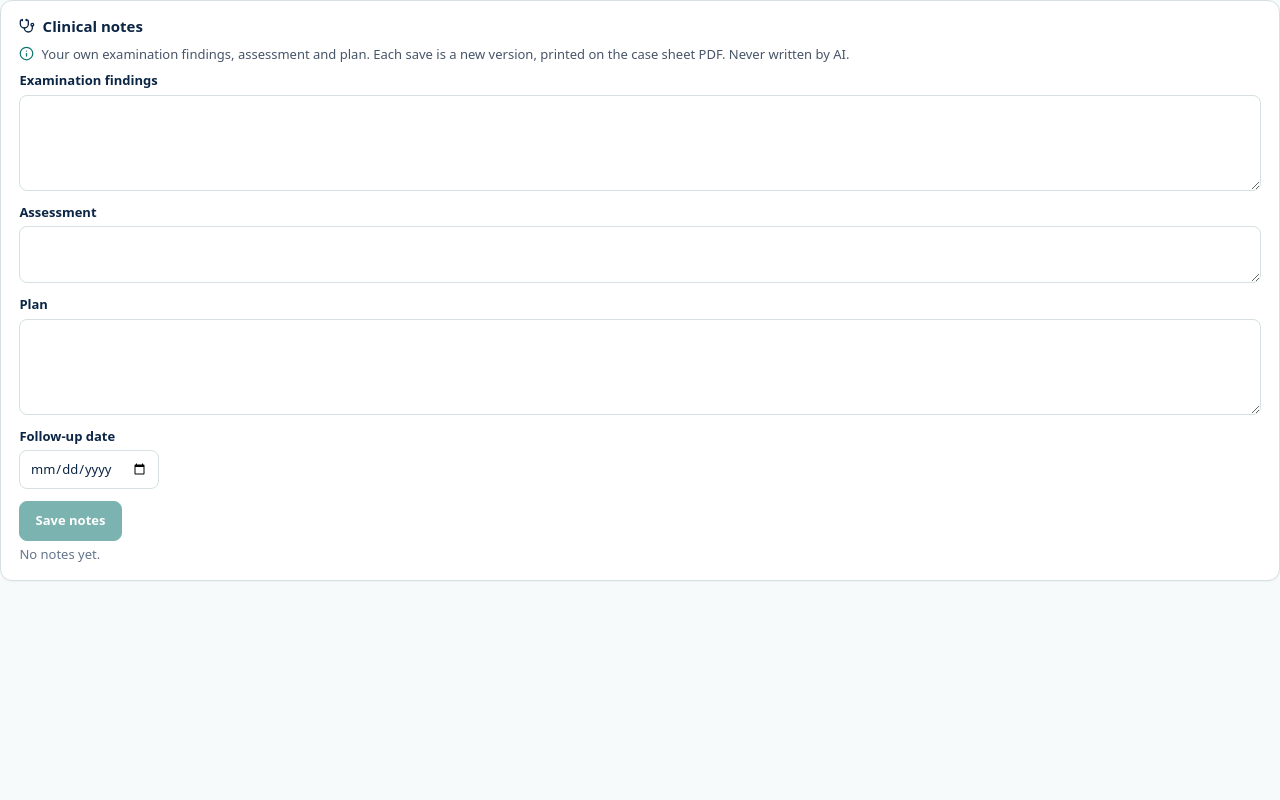
Test: Doctor's notes panel › saves the first version with the version the doctor started from
This screenshot has width=1280, height=800.
Expected: the button "Save notes" is disabled, x1=19 y1=501 x2=122 y2=541
Type "  Fluids " into the text box labelled "Plan".
click(640, 367); type("  Fluids ")  # box x1=19 y1=319 x2=1261 y2=415
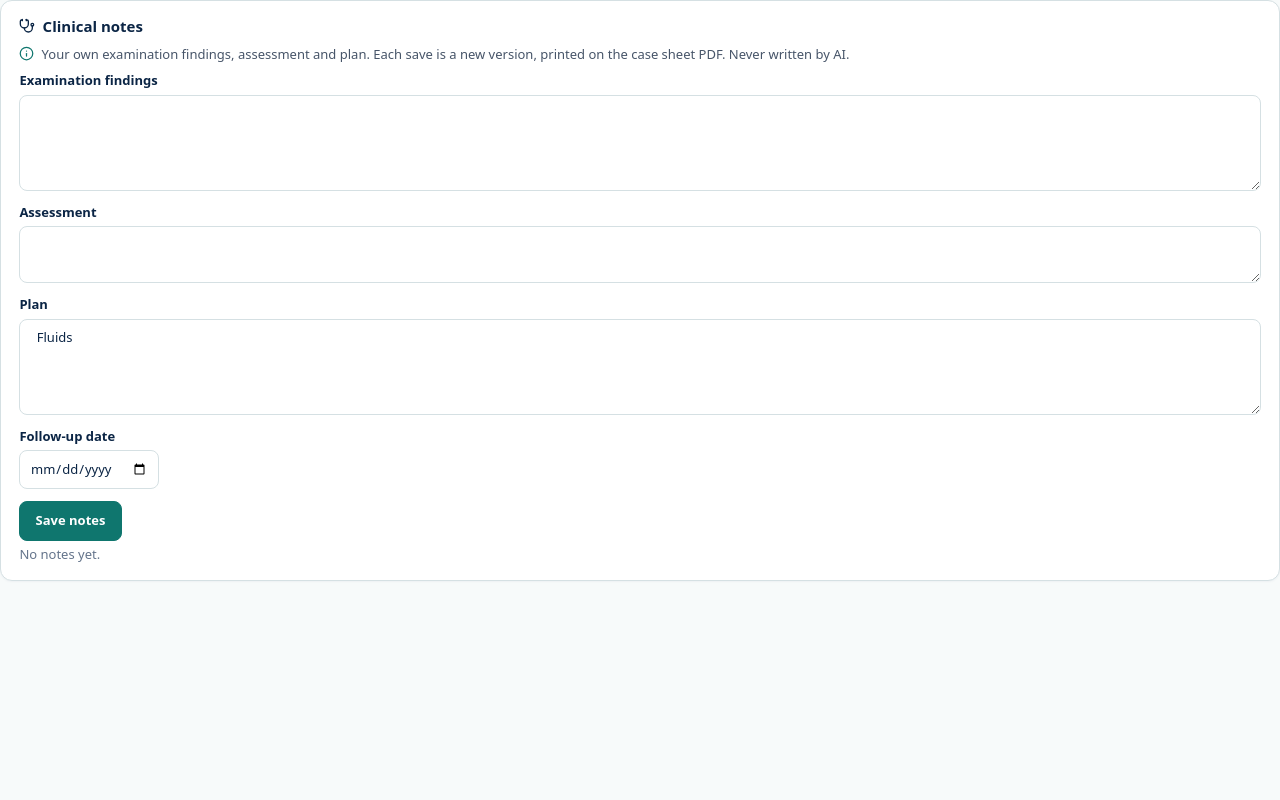
Click the button "Save notes".
click(70, 521)  # box x1=19 y1=501 x2=122 y2=541
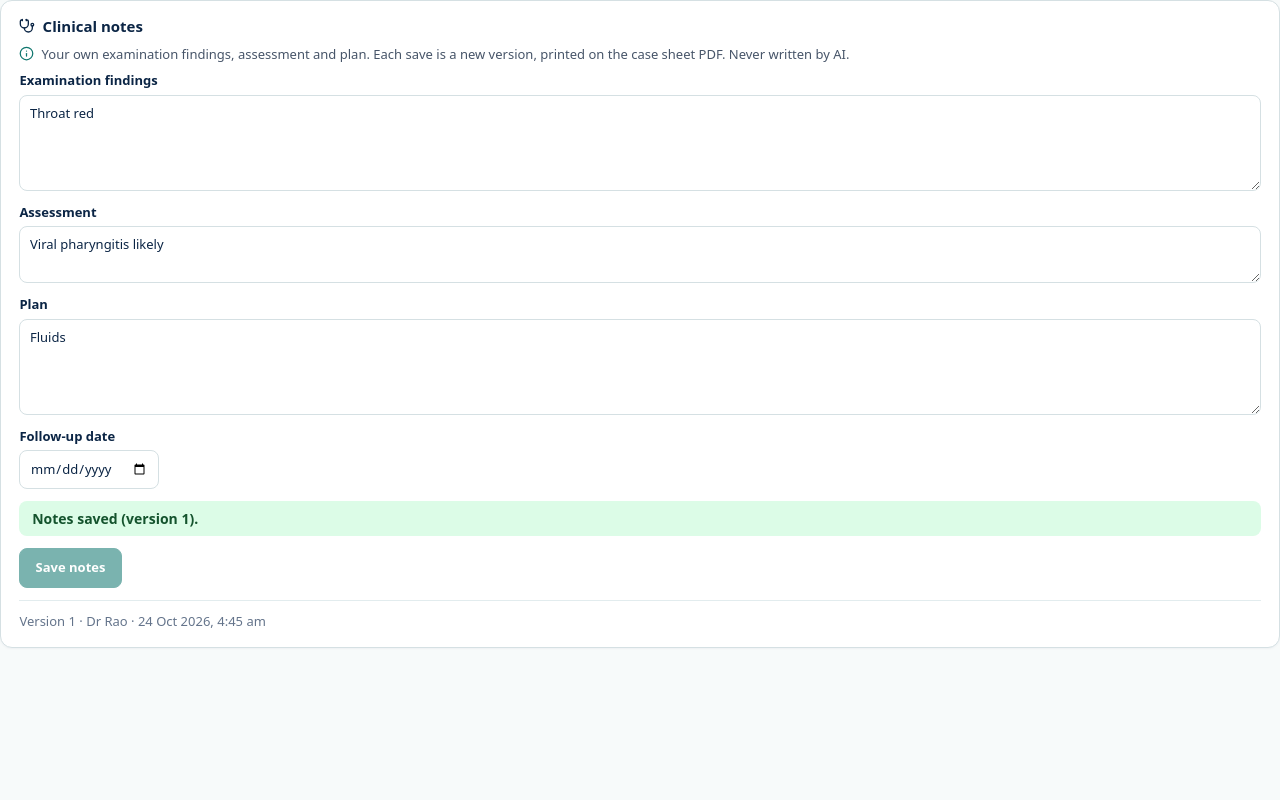
Result: the message reads "Notes saved (version 1)." at x1=32 y1=509 x2=198 y2=528
